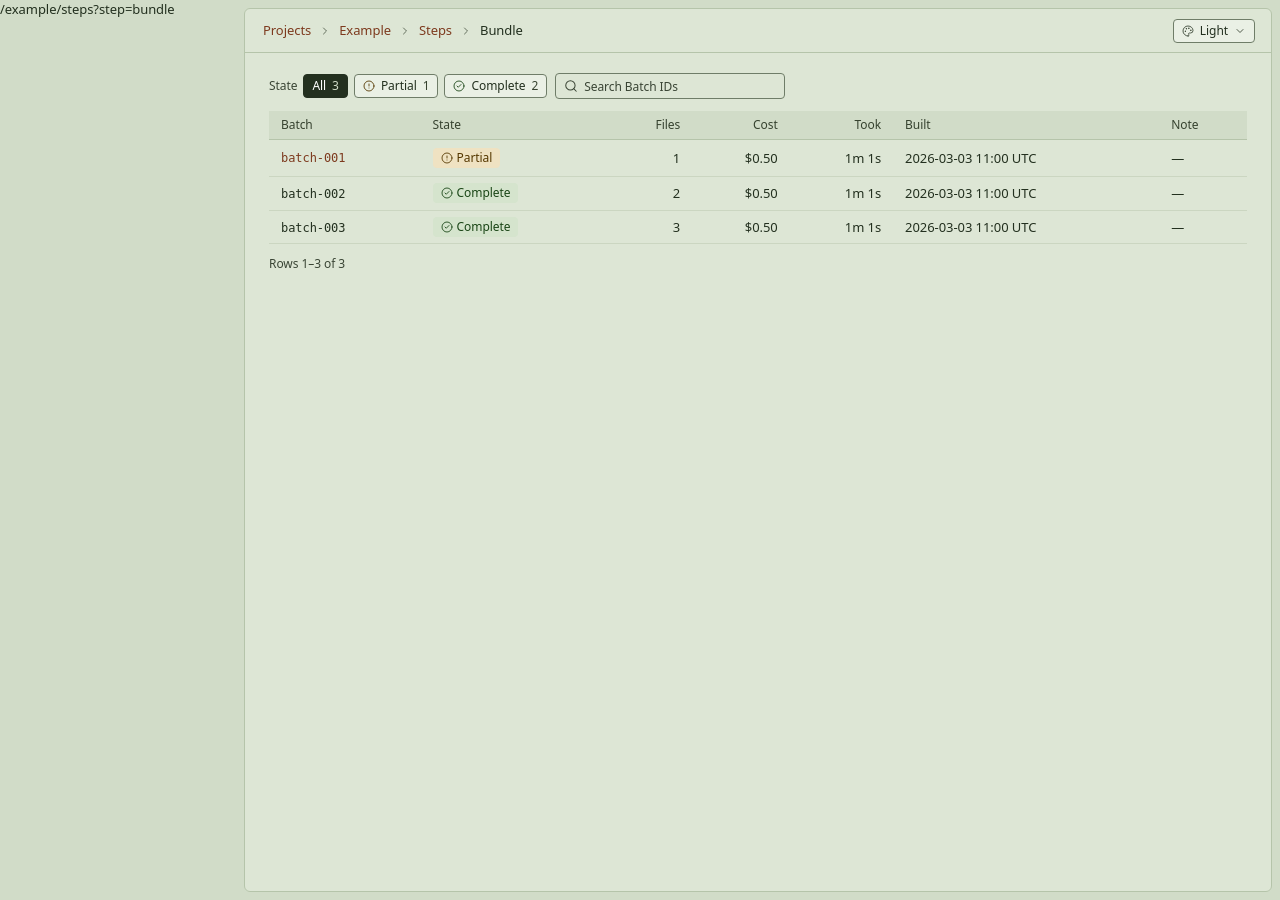
Test: a step's table › filters by a column's chips and says how many rows they hide
Click the button "Partial 1" at (396, 86), box [354, 74, 438, 98]
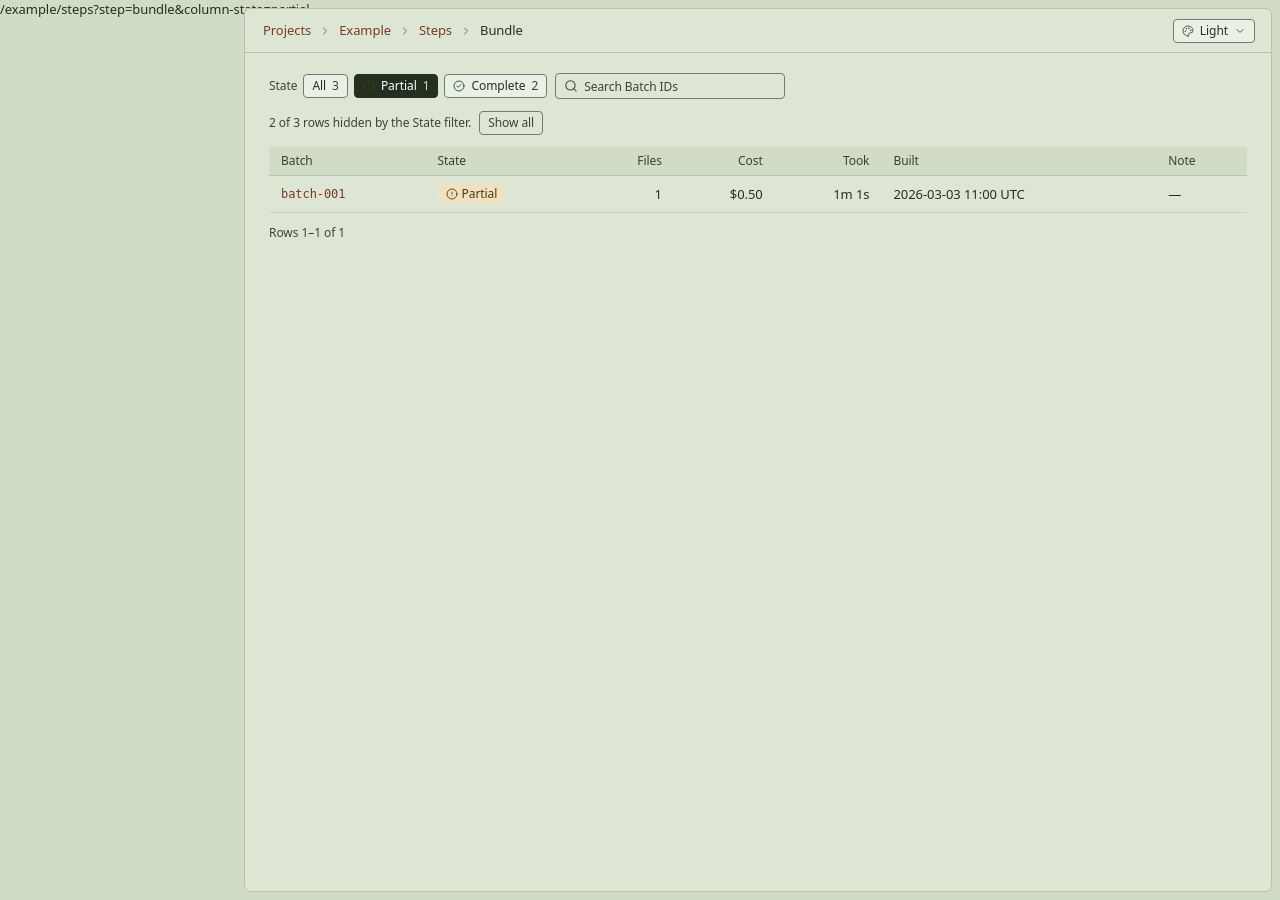
Check: the text named "where" reads "/example/steps?step=bundle&column-state=partial", box [0, 0, 310, 18]
Check: the number of rows is 2, box [269, 147, 1247, 176]; [269, 176, 1247, 212]
Check: the text "2 of 3 rows hidden by the State filter. Show all" is shown, box [269, 111, 543, 135]
